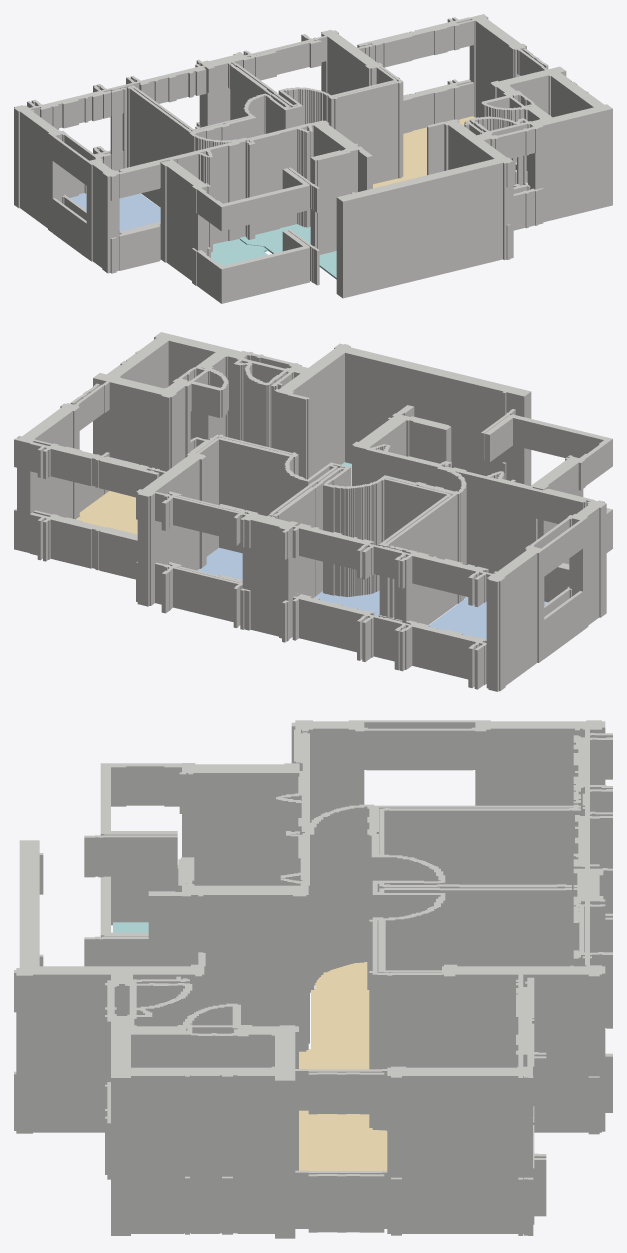
3 views of the same model, one above another, from view 1: azimuth 30°, elevation 25°; view 2: azimuth 150°, elevation 25°; view 3: azimuth 270°, elevation 25° (orthographic). The views are drawn at different scales.
Visible parts, largest first — view 1: walls, room:bedroom:1, room:living:3, room:bath:5, room:bath:4; view 2: walls, room:bedroom:1, room:living:3, room:bedroom:2; view 3: walls, room:living:3.
Part boxes in pixels (x1,y1,x2,y2): walls: [14, 14, 612, 303]; room:bedroom:1: [69, 193, 160, 231]; room:living:3: [373, 116, 474, 188]; room:bath:5: [240, 224, 336, 279]; room:bath:4: [211, 239, 267, 265]; walls: [14, 332, 612, 691]; room:bedroom:1: [314, 590, 547, 639]; room:living:3: [76, 491, 137, 534]; room:bedroom:2: [198, 547, 242, 579]; walls: [14, 720, 612, 1238]; room:living:3: [299, 962, 387, 1170].
Size of the model in its own units: 13.7 by 2.8 by 9.62.
